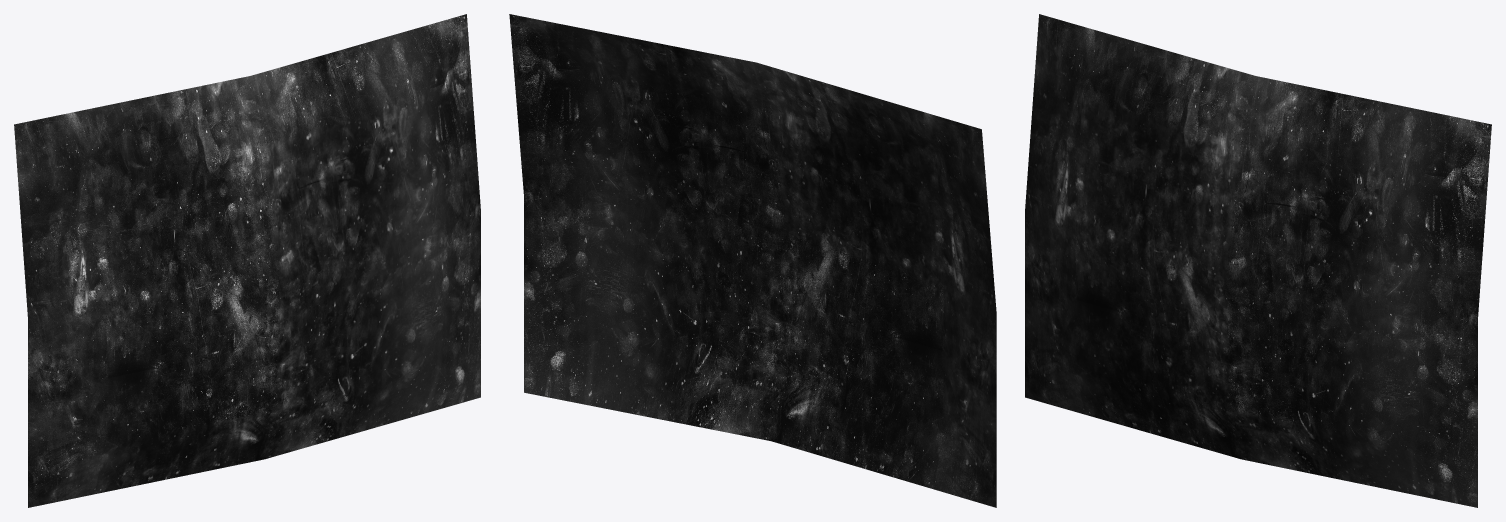
File: screenModel.glb
The picture shows the model from 3 angles, left to right: view 1: azimuth 30°, elevation 25°; view 2: azimuth 150°, elevation 25°; view 3: azimuth 330°, elevation 25°; orthographic projection. The views are drawn at different scales.
Visible parts, largest first — view 1: monitor_screen; view 2: monitor_screen; view 3: monitor_screen.
Boxes of the visible parts, left/top/right/bottom form: monitor_screen: left=14, top=14, right=480, bottom=507; monitor_screen: left=509, top=14, right=996, bottom=507; monitor_screen: left=1025, top=14, right=1491, bottom=507.
Size of the model in its own units: 1.36 by 1.07 by 0.2077.
Materials: 1 (1 with a texture image).
